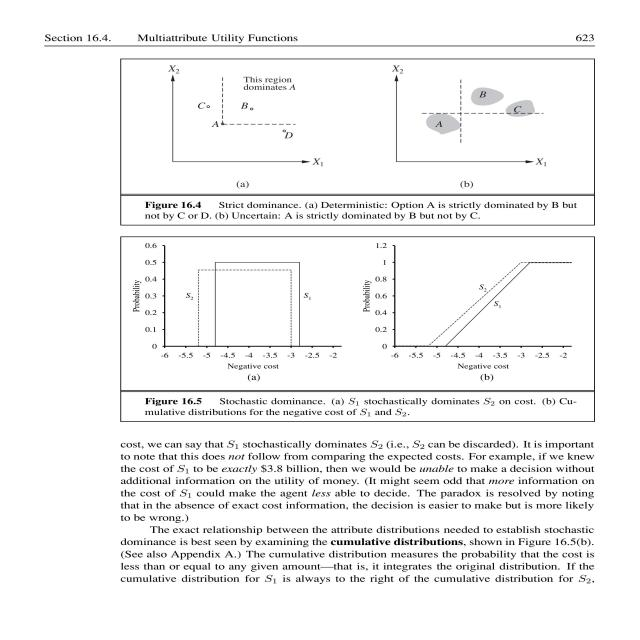diagram: (80, 50, 625, 434)
